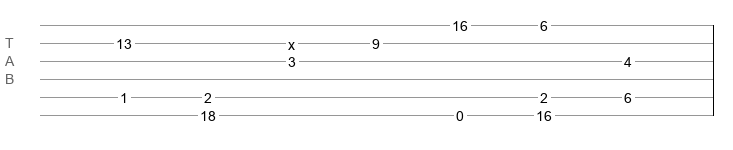0: (456, 108, 464, 118)
1: (120, 90, 128, 100)
13: (116, 36, 132, 46)
16: (452, 18, 468, 28), (536, 108, 552, 118)
18: (200, 108, 216, 118)
2: (204, 90, 212, 100), (540, 90, 548, 100)
3: (288, 54, 296, 64)
4: (624, 54, 632, 64)
6: (540, 18, 548, 28), (624, 90, 632, 100)
9: (372, 36, 380, 46)
x: (288, 37, 295, 45)
